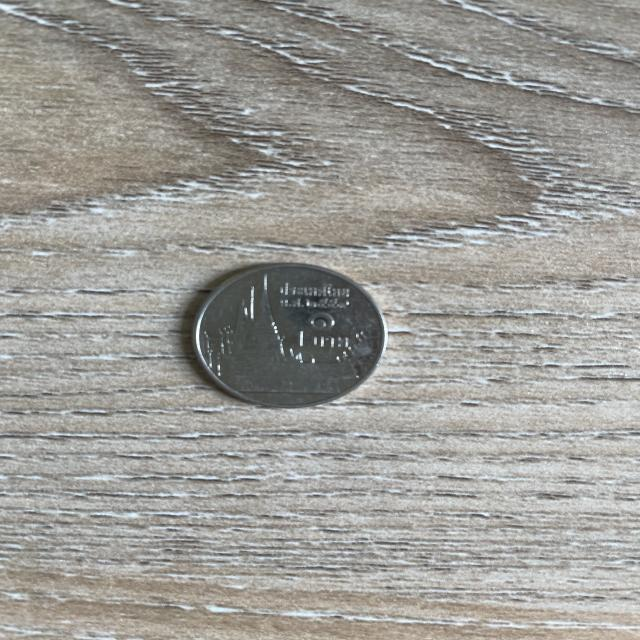1 Bath: (169, 249, 398, 419)
